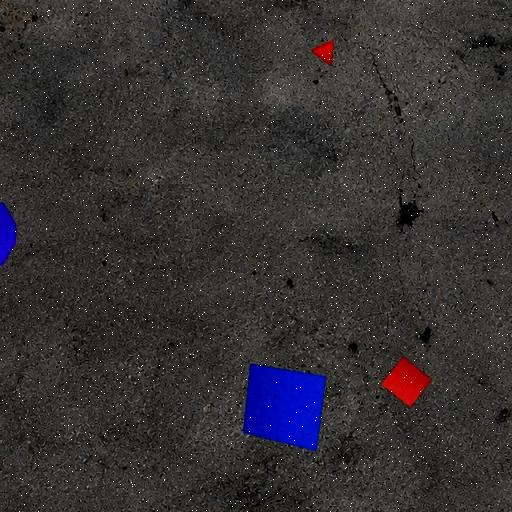BLUE_SQUARE: (242, 362, 328, 452)
RED_SQUARE: (380, 355, 433, 409)
